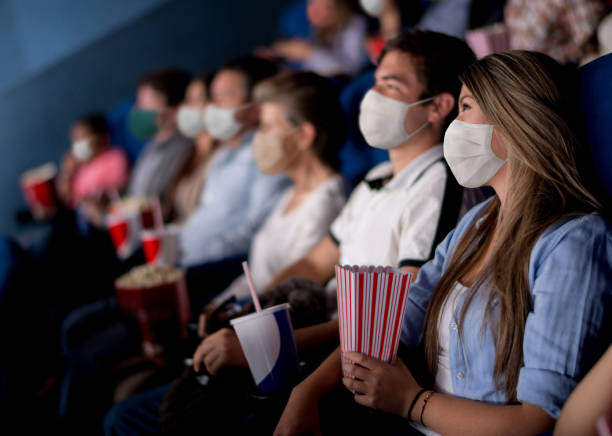with mask: (356, 43, 446, 148), (438, 83, 527, 188), (247, 89, 320, 190), (198, 57, 246, 143), (60, 112, 114, 167), (168, 63, 204, 142), (131, 61, 167, 140)
